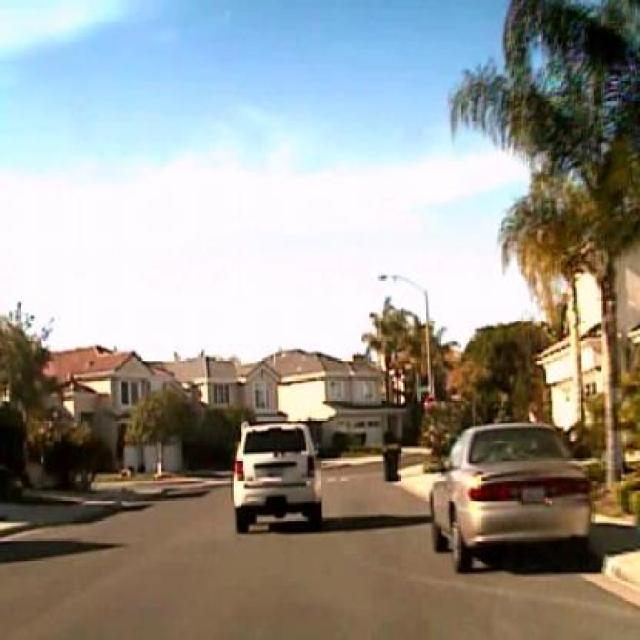stop: (424, 397, 438, 415)
